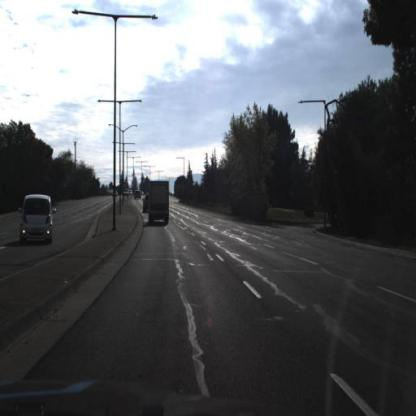car: (18, 196, 58, 243), (143, 193, 152, 218), (144, 193, 152, 214), (134, 190, 142, 201)
truck: (149, 180, 171, 225)
